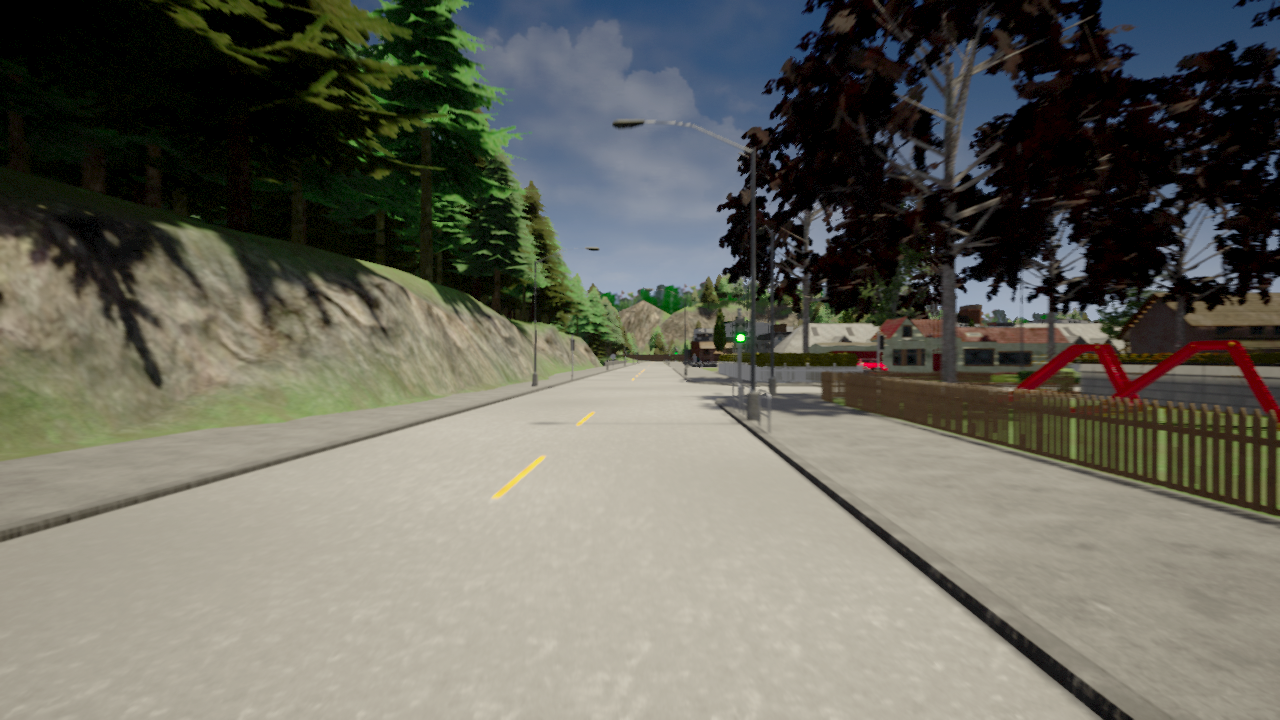green: (734, 315, 747, 343)
